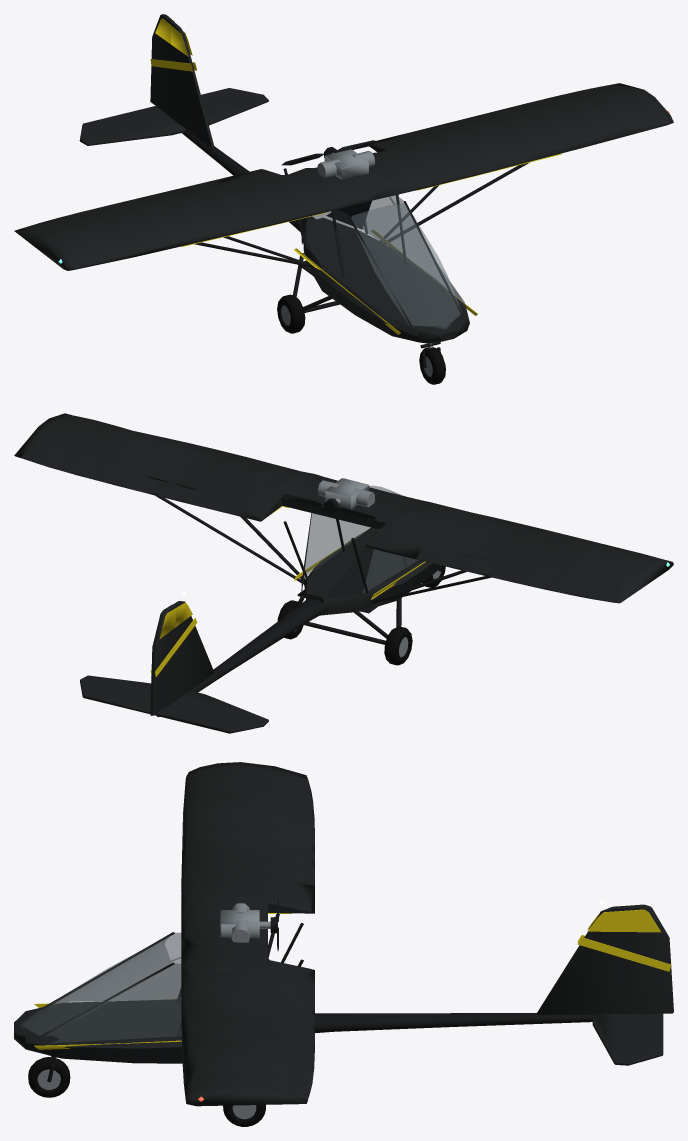
The model's file is nightjar_rw12_lod2.glb.
3 renders of one model, top to bottom at view 1: azimuth 30°, elevation 25°; view 2: azimuth 150°, elevation 25°; view 3: azimuth 270°, elevation 25°, orthographic. The views are drawn at different scales.
Parts seen in each view (by area): view 1: wing_R, wing_L, fuselage, canopy_glazing, horizontal_stabilizer, vertical_stabilizer, struts, rudder, engine_mount, elevator, aileron_R, aileron_L (+3 smaller); view 2: wing_R, wing_L, fuselage, aileron_R, aileron_L, canopy_glazing, horizontal_stabilizer, vertical_stabilizer, rudder, struts, elevator, engine_mount (+4 smaller); view 3: wing_L, wing_R, fuselage, canopy_glazing, vertical_stabilizer, rudder, aileron_R, aileron_L, horizontal_stabilizer, wingtip_L, engine_mount, wheel_nose (+3 smaller).
Part boxes in pixels (x1,y1,x2,y2): wing_R: (30,167,372,269); wing_L: (356,86,666,200); fuselage: (182,130,477,343); canopy_glazing: (302,195,465,328); horizontal_stabilizer: (79,92,268,145); vertical_stabilizer: (164,21,214,147); struts: (194,162,529,278); rudder: (150,14,174,116); engine_mount: (317,149,375,179); elevator: (81,88,250,133); aileron_R: (20,181,220,230); aileron_L: (415,84,620,133); wing_R: (334,487,663,590); wing_L: (30,415,369,521); fuselage: (157,513,442,717); aileron_R: (415,547,621,602); aileron_L: (21,446,220,509); canopy_glazing: (304,485,418,593); horizontal_stabilizer: (80,675,268,728); vertical_stabilizer: (151,601,214,715); rudder: (150,604,175,715); struts: (155,495,491,603); elevator: (80,685,252,733); engine_mount: (317,478,374,509); wing_L: (181,929,314,1099); wing_R: (181,767,314,941); fuselage: (14,932,592,1063); canopy_glazing: (20,932,181,1043); vertical_stabilizer: (536,906,673,1014); rudder: (626,904,673,1012); aileron_R: (287,774,314,886); aileron_L: (287,991,314,1099); horizontal_stabilizer: (592,1013,663,1065); wingtip_L: (185,1088,307,1106); engine_mount: (220,903,270,942); wheel_nose: (28,1057,70,1097).
Size of the model in its own units: 8.68 by 2.4 by 7.3.
